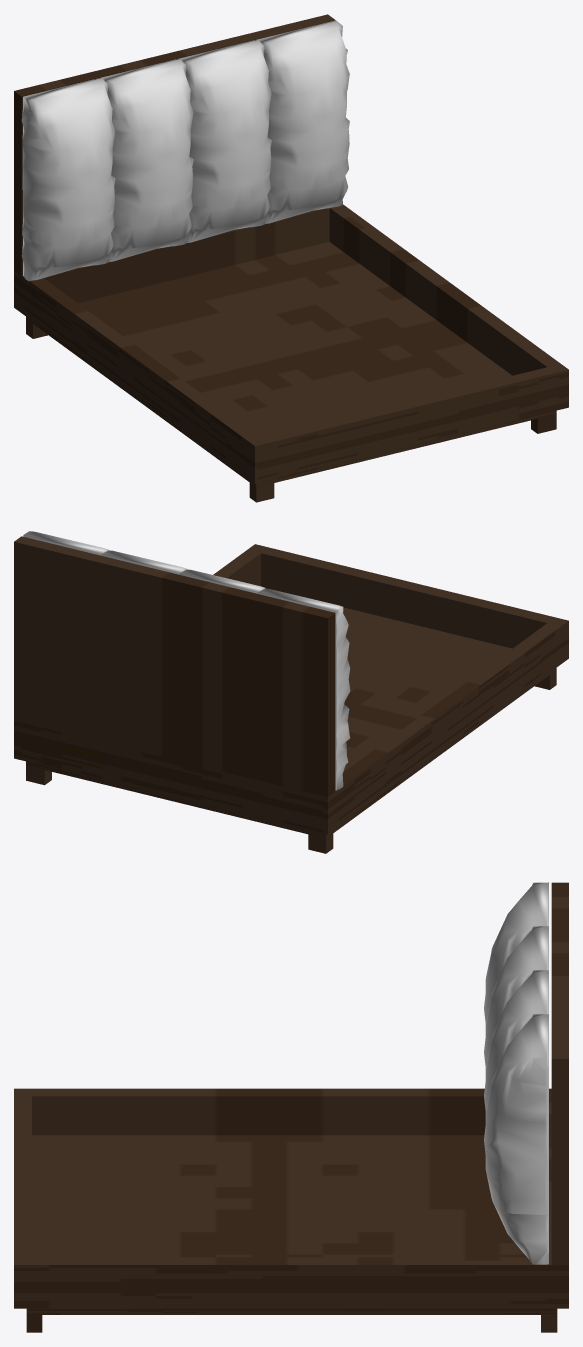
Rendered from lit.glb.
The picture shows the model from 3 angles, top to bottom: view 1: azimuth 30°, elevation 25°; view 2: azimuth 150°, elevation 25°; view 3: azimuth 270°, elevation 25°; orthographic projection. The views are drawn at different scales.
Visible parts, largest first — view 1: Lit, Tete-du-lit, Pied de lit; view 2: Lit, Tete-du-lit, Pied de lit; view 3: Lit, Tete-du-lit, Pied de lit.
Boxes of the visible parts, x1,y1,x2,y2 form: Lit: [14, 14, 568, 483]; Tete-du-lit: [21, 20, 349, 281]; Pied de lit: [26, 316, 556, 502]; Lit: [14, 536, 568, 834]; Tete-du-lit: [23, 531, 350, 790]; Pied de lit: [26, 668, 556, 853]; Lit: [14, 882, 568, 1308]; Tete-du-lit: [484, 882, 548, 1264]; Pied de lit: [26, 1308, 557, 1332].
Bounding box in the file's own units: 18.7 × 13.54 × 24.52.
2 materials, 1 textured.
